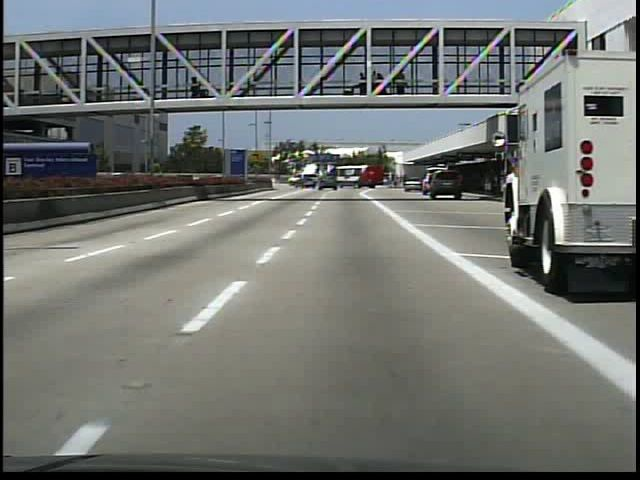person: (482, 173, 494, 199)
